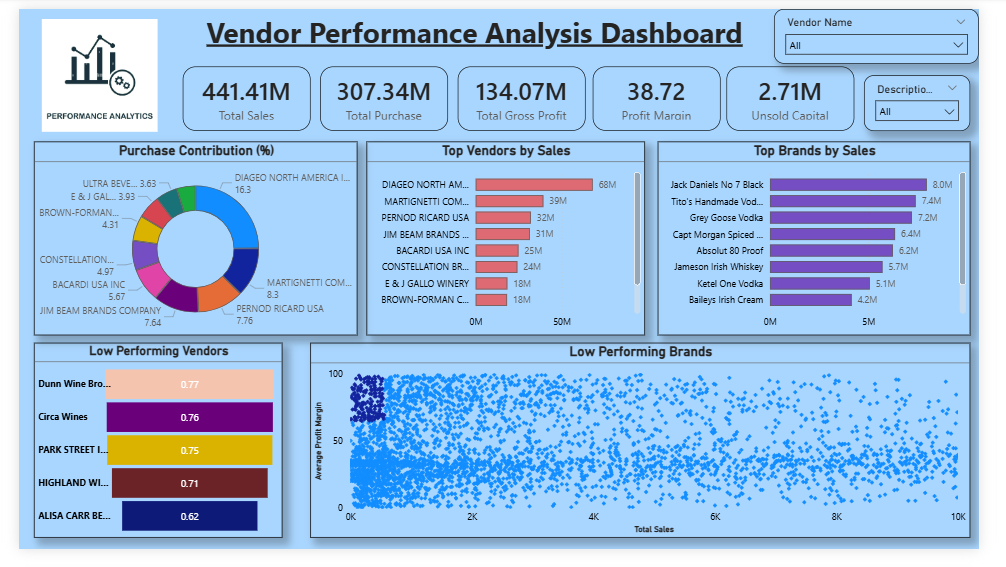

What the dashboard file says about the page in this screenshot:
{"tool":"powerbi","page":{"name":"Dashboard","canvas":[1280,720],"ordinal":0},"visuals":[{"type":"textbox","box":[245.7,0,728.6,72.9],"z":0},{"type":"cardVisual","fields":{"Data":["Sum(Sheet1 (2).TotalSalesDollars)"]},"box":[218.6,77.1,170,85.7],"z":1000},{"type":"cardVisual","fields":{"Data":["Sum(vendor_sales_summary.TotalPurchaseDollars)"]},"box":[401.4,77.1,170,85.7],"z":2000},{"type":"cardVisual","fields":{"Data":["Sum(vendor_sales_summary.UnsoldCapital)"]},"box":[942.9,77.1,170,85.7],"z":3000},{"type":"cardVisual","fields":{"Data":["Sum(Sheet1 (2).GrossProfit)"]},"box":[584.3,77.1,170,85.7],"z":4000},{"type":"cardVisual","fields":{"Data":["Avg(Sheet1 (2).ProfitMargin)"]},"box":[765.7,77.1,170,85.7],"z":5000},{"type":"donutChart","title":"Purchase Contribution (%)","fields":{"Category":["PurchaseContribution.vendorname"],"Y":["Sum(PurchaseContribution.PurchaseContribtuion%)"]},"box":[20,177.1,431.4,258.6],"z":6000},{"type":"barChart","title":"Top Vendors by Sales","fields":{"Category":["vendor_sales_summary.vendorname"],"Y":["Sum(vendor_sales_summary.TotalSalesDollars)"]},"box":[462.9,177.1,371.4,258.6],"z":7000},{"type":"barChart","title":"Top Brands by Sales","fields":{"Category":["vendor_sales_summary.description"],"Y":["Sum(vendor_sales_summary.TotalSalesDollars)"]},"box":[851.4,177.1,417.1,258.6],"z":8000},{"type":"funnel","title":"Low Performing Vendors","fields":{"Category":["LowTurnoverVendor.vendorname"],"Y":["Avg(LowTurnoverVendor.AvgStockTurnOver)"]},"box":[20,445.7,331.4,260],"z":9000},{"type":"scatterChart","title":"Low Performing Brands","fields":{"Category":["BrandPerformance.description"],"X":["Sum(BrandPerformance.TotalSales)"],"Y":["Sum(BrandPerformance.AvgProfitMargin)"],"Series":["BrandPerformance.TargetBrand"]},"box":[388.6,445.7,880,260],"z":9001},{"type":"image","box":[0,12.9,215.7,150],"z":9002},{"type":"slicer","fields":{"Values":["vendor_sales_summary.vendorname"]},"box":[1007.1,0,272.9,72.9],"z":9003},{"type":"slicer","fields":{"Values":["vendor_sales_summary.description"]},"box":[1127.1,88.6,141.4,74.3],"z":9004}]}

Visuals, with their boxes in screenshot pixels (x1, y1, x2, y2), scaled from the page's 1280x720 canvas onto the 1006x567 screenshot:
textbox: 193, 0, 766, 57
cardVisual - Sum(Sheet1 (2).TotalSalesDollars): 172, 61, 305, 128
cardVisual - Sum(vendor_sales_summary.TotalPurchaseDollars): 315, 61, 449, 128
cardVisual - Sum(vendor_sales_summary.UnsoldCapital): 741, 61, 875, 128
cardVisual - Sum(Sheet1 (2).GrossProfit): 459, 61, 593, 128
cardVisual - Avg(Sheet1 (2).ProfitMargin): 602, 61, 735, 128
"Purchase Contribution (%)" donutChart: 16, 139, 355, 343
"Top Vendors by Sales" barChart: 364, 139, 656, 343
"Top Brands by Sales" barChart: 669, 139, 997, 343
"Low Performing Vendors" funnel: 16, 351, 276, 556
"Low Performing Brands" scatterChart: 305, 351, 997, 556
image: 0, 10, 170, 128
slicer - vendor_sales_summary.vendorname: 792, 0, 1005, 57
slicer - vendor_sales_summary.description: 886, 70, 997, 128
